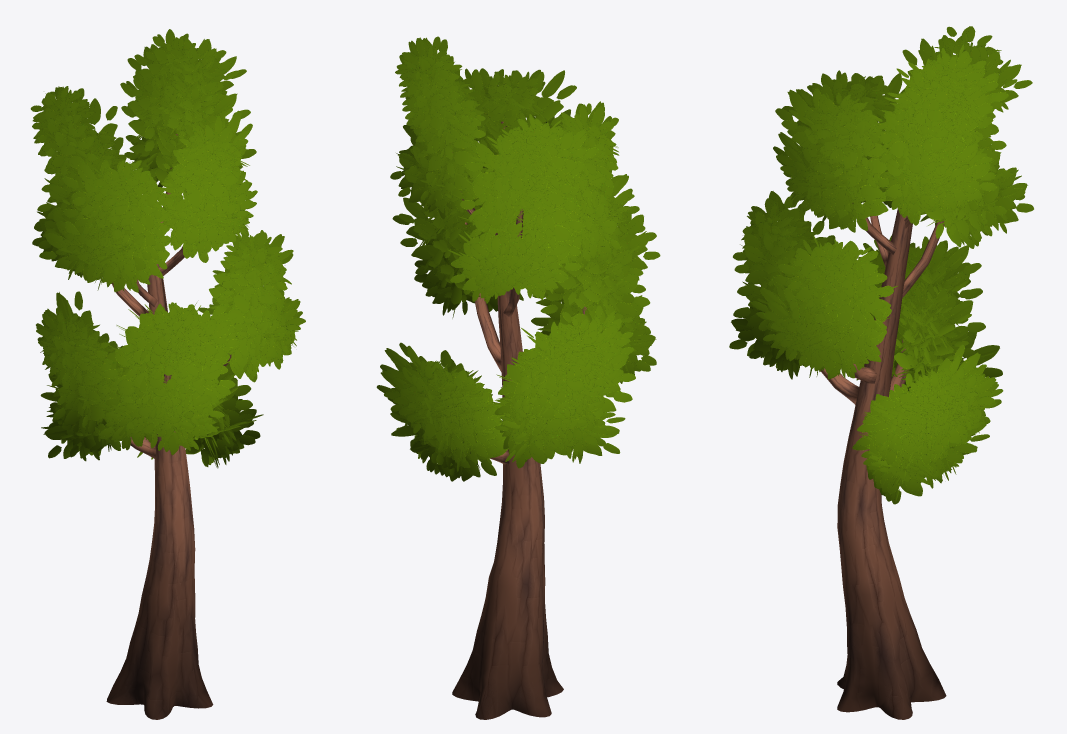
File: CommonTree_3.gltf
3 renders of one model, left to right at view 1: azimuth 30°, elevation 25°; view 2: azimuth 150°, elevation 25°; view 3: azimuth 270°, elevation 25°, orthographic. The views are drawn at different scales.
Parts seen in each view (by area): view 1: CommonTree_3; view 2: CommonTree_3; view 3: CommonTree_3.
Part boxes in pixels (x1,y1,x2,y2): CommonTree_3: (30, 29, 305, 719); CommonTree_3: (376, 36, 660, 719); CommonTree_3: (729, 26, 1033, 719).
Bounding box in the file's own units: 4.06 × 9.43 × 4.24.
2 materials, 2 textured.
